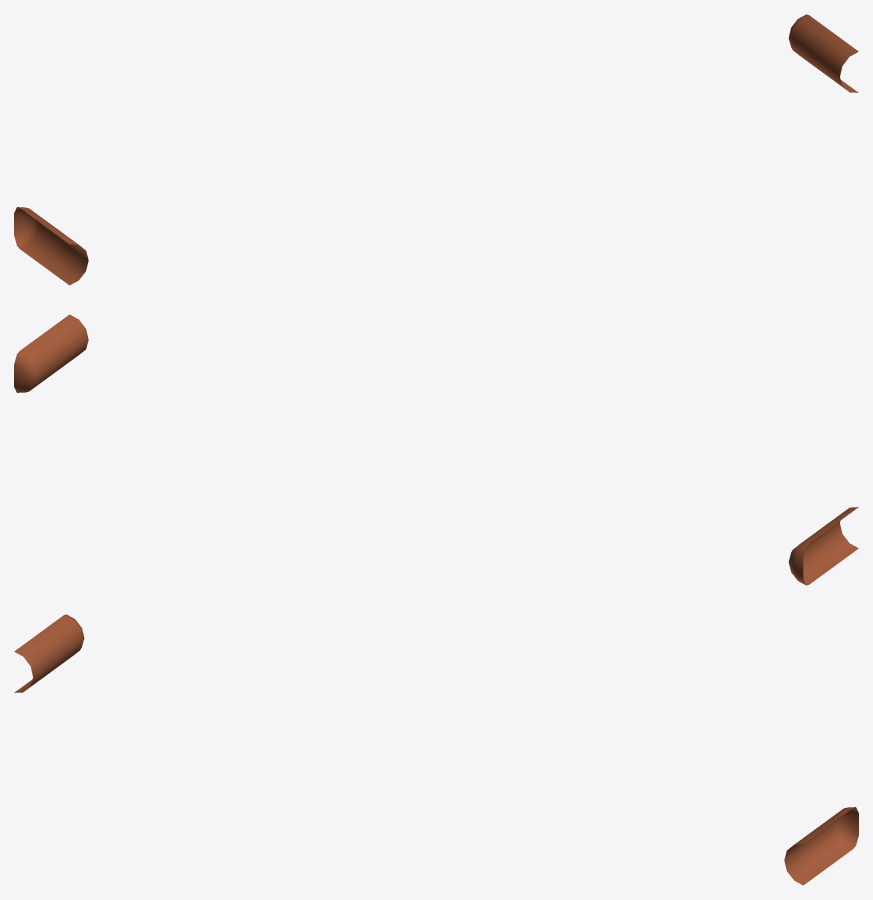
Rendered from SM_tileSol_EndTop_border.fbx.
3 views of the same model, one above another, from view 1: azimuth 30°, elevation 25°; view 2: azimuth 150°, elevation 25°; view 3: azimuth 330°, elevation 25° (orthographic).
Visible parts, largest first — view 1: SM_tileSol_EndTop_border; view 2: SM_tileSol_EndTop_border; view 3: SM_tileSol_EndTop_border.
Part boxes in pixels (x1,y1,x2,y2): SM_tileSol_EndTop_border: (14,14,858,285); SM_tileSol_EndTop_border: (14,314,858,585); SM_tileSol_EndTop_border: (14,614,858,885).
Size of the model in its own units: 200 by 10 by 24.4.
